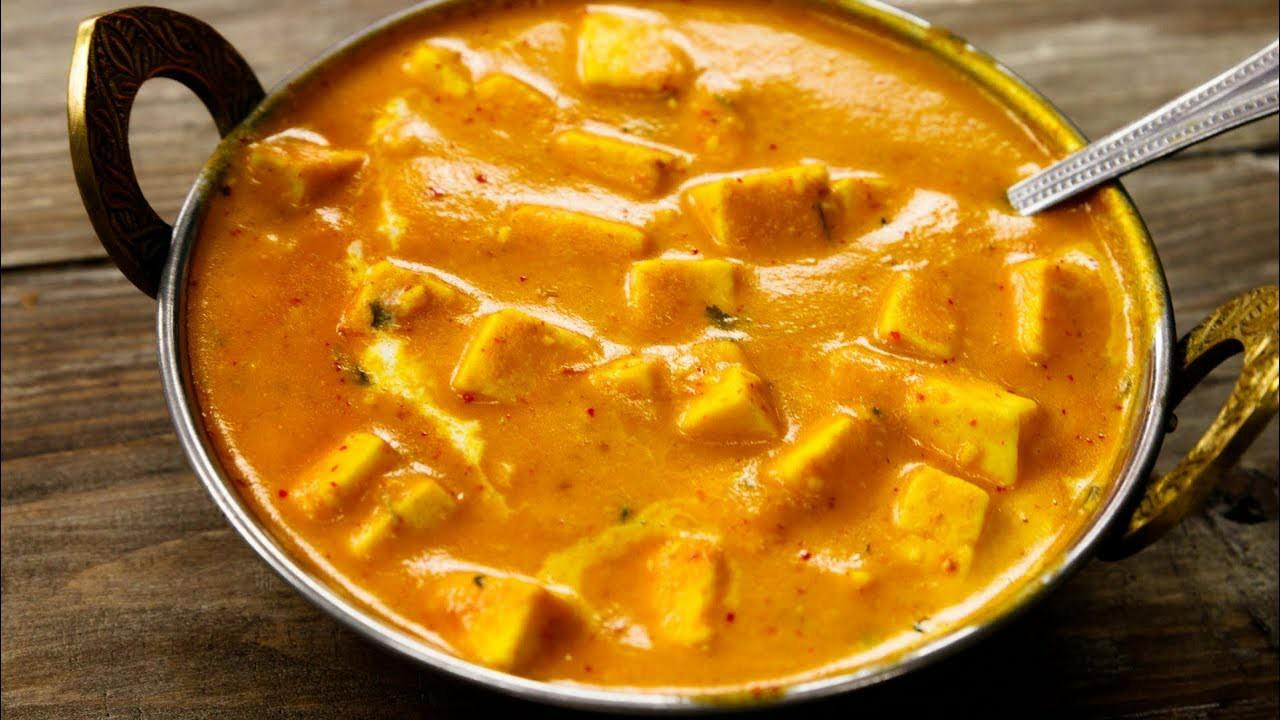ShahiPaneer: (187, 0, 1145, 688)
